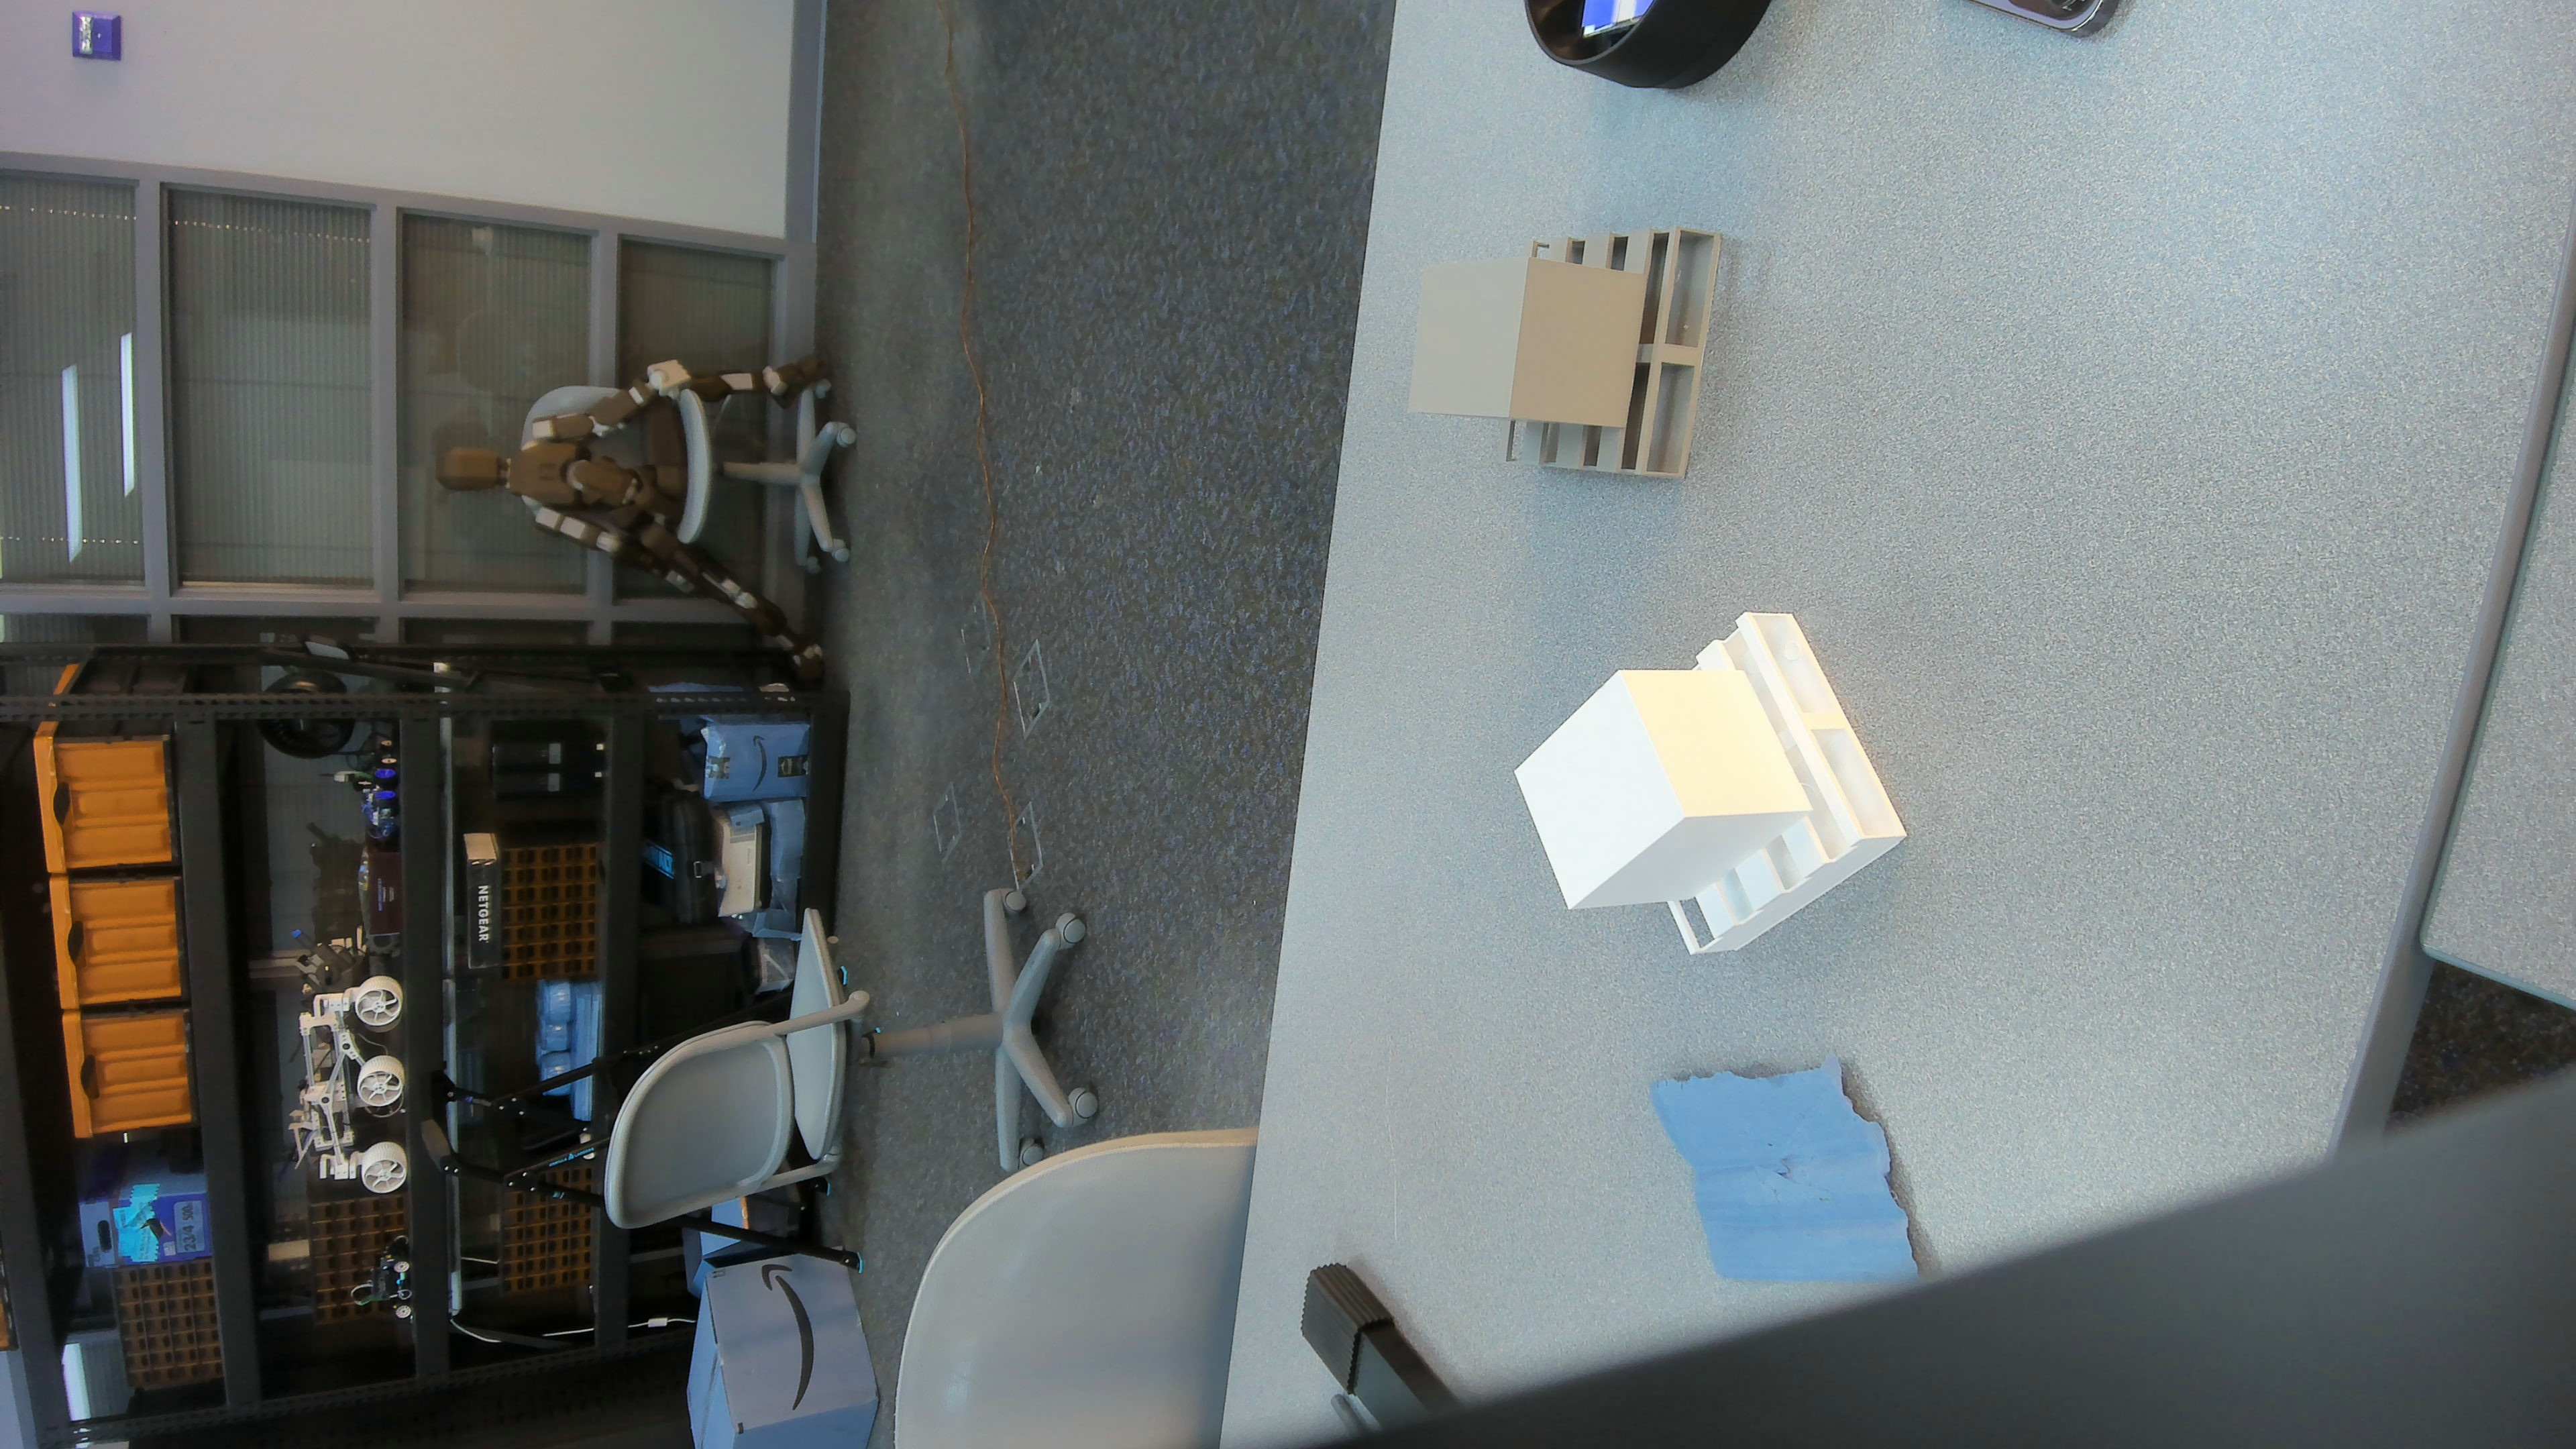grey pallet: (1401, 211, 1744, 497)
white pallet: (1497, 589, 1921, 970)
